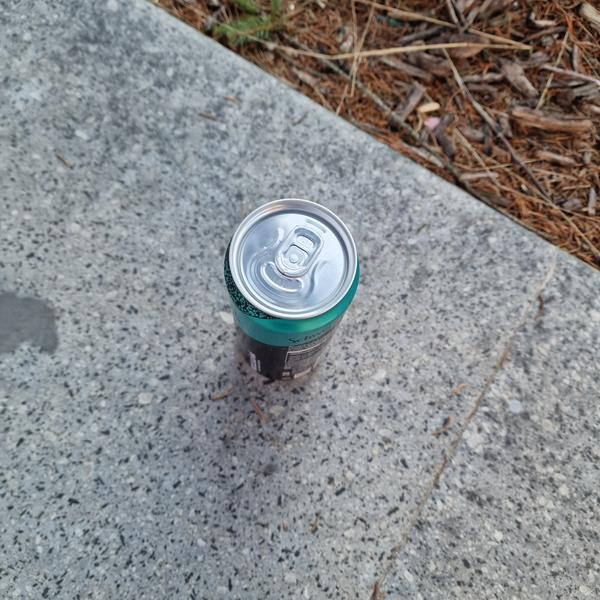can: (224, 197, 359, 380)
